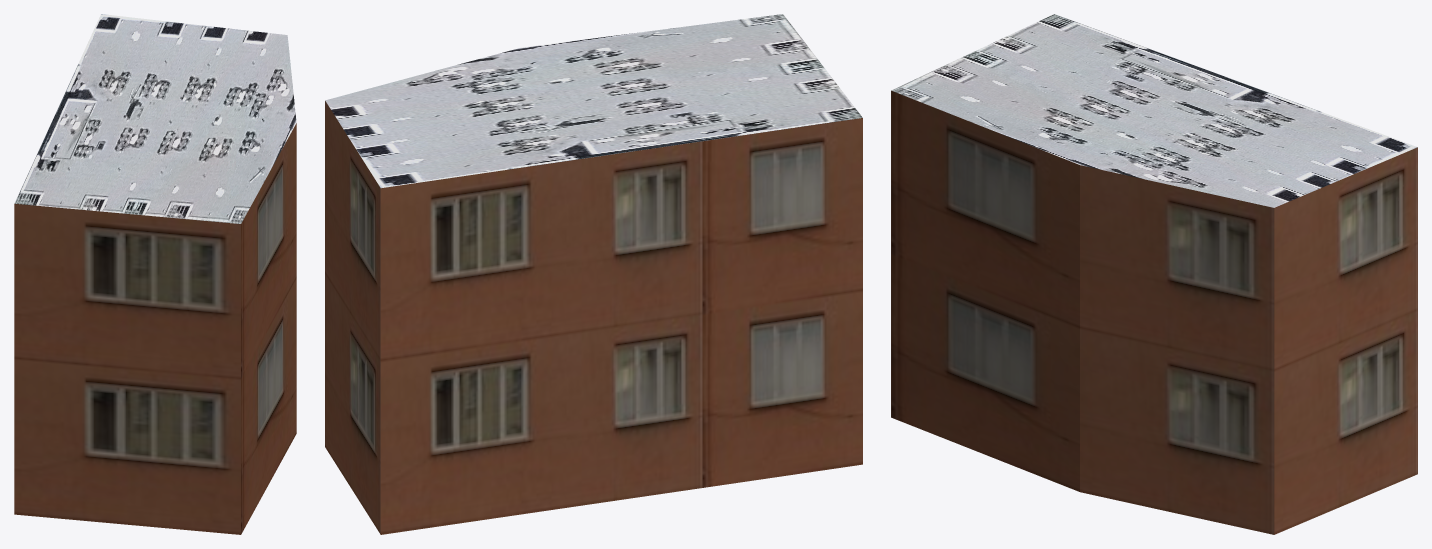
Rendered from ResTex__4459.fbx.
3 views of the same model, side by side, from view 1: azimuth 30°, elevation 25°; view 2: azimuth 150°, elevation 25°; view 3: azimuth 270°, elevation 25° (orthographic). The views are drawn at different scales.
Visible parts, largest first — view 1: CityEngineMaterial_20_m, CityEngineMaterial_m; view 2: CityEngineMaterial_20_m, CityEngineMaterial_m; view 3: CityEngineMaterial_20_m, CityEngineMaterial_m.
Boxes of the visible parts, bbox=[...] form: CityEngineMaterial_20_m: bbox=[14, 123, 296, 534]; CityEngineMaterial_m: bbox=[14, 14, 296, 223]; CityEngineMaterial_20_m: bbox=[325, 101, 862, 534]; CityEngineMaterial_m: bbox=[325, 14, 862, 188]; CityEngineMaterial_20_m: bbox=[891, 90, 1417, 534]; CityEngineMaterial_m: bbox=[891, 14, 1417, 207].
Size of the model in its own units: 7.63 by 6 by 8.76.
2 materials, 2 textured.
